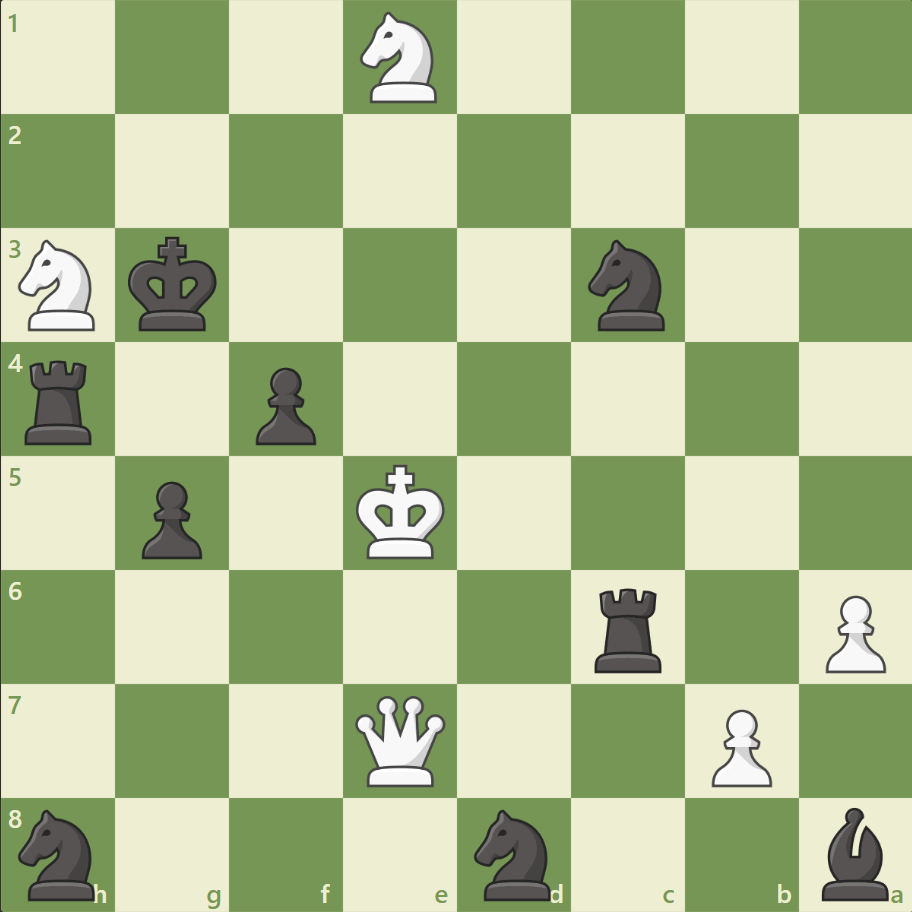K: (351, 458, 451, 566)
N: (351, 7, 449, 110), (11, 234, 108, 337)
P: (701, 700, 776, 791), (815, 586, 889, 677)
Q: (351, 690, 450, 789)
b: (812, 801, 896, 904)
k: (124, 231, 224, 339)
n: (579, 234, 676, 337), (465, 802, 562, 904), (11, 802, 108, 904)
p: (133, 473, 208, 564), (247, 359, 322, 450)
r: (587, 579, 670, 676), (19, 352, 102, 449)
